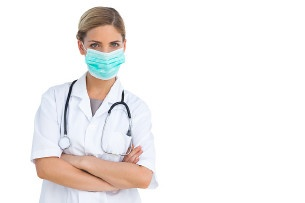Mask: (80, 34, 125, 79)
